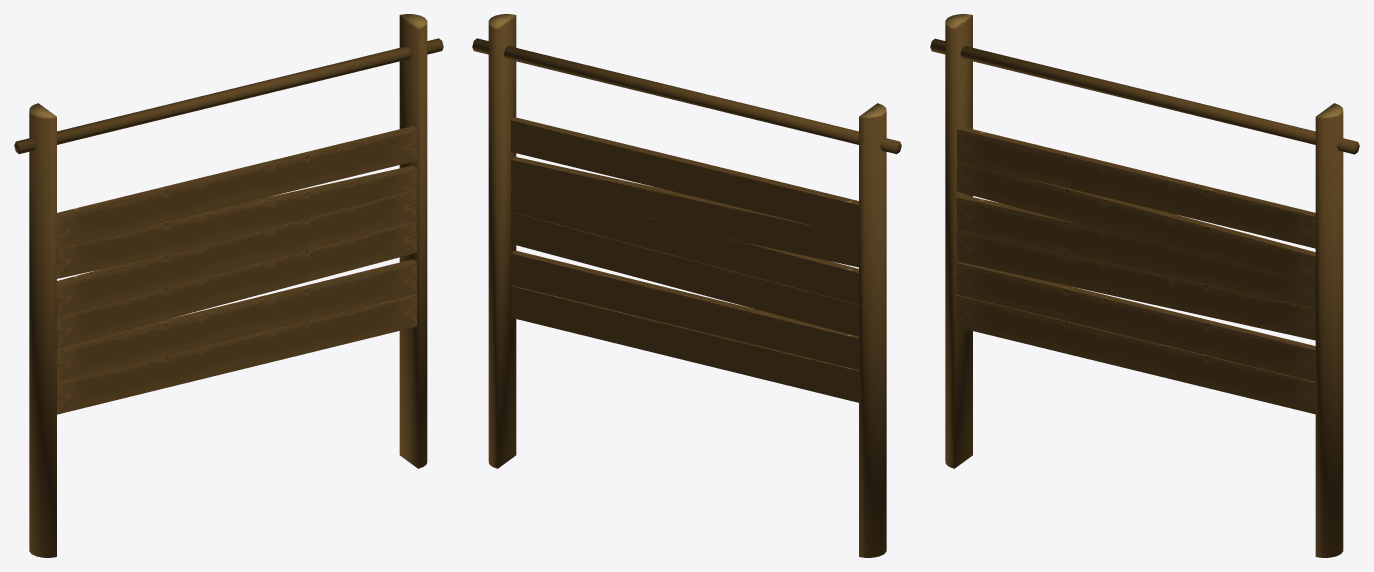
File: Tablero.fbx
3 renders of one model, left to right at view 1: azimuth 30°, elevation 25°; view 2: azimuth 150°, elevation 25°; view 3: azimuth 330°, elevation 25°, orthographic.
Visible parts, largest first — view 1: Circle; view 2: Circle; view 3: Circle.
Part boxes in pixels (x1,y1,x2,y2): Circle: (14, 14, 443, 557); Circle: (472, 14, 901, 557); Circle: (930, 14, 1359, 557).
Size of the model in its own units: 324 by 322 by 24.64.
